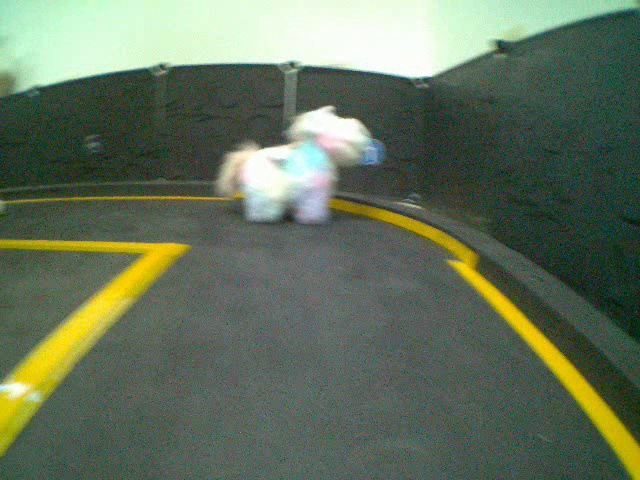unicorn: (212, 104, 370, 229)
